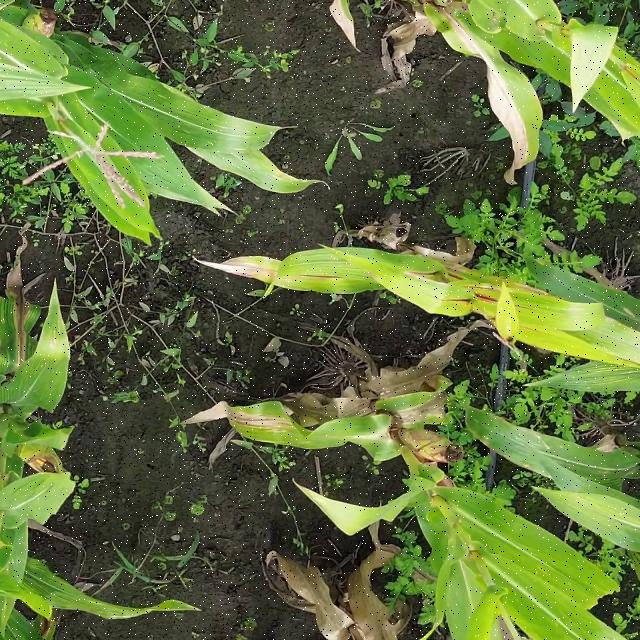gray-leaf-spot: (174, 110, 264, 150), (226, 150, 294, 190), (573, 361, 637, 388)
northern-leaf-blight: (444, 16, 533, 115), (240, 410, 383, 447), (4, 299, 44, 376), (236, 261, 322, 290), (382, 395, 452, 426)
southern-leaf-blight: (476, 419, 570, 466), (44, 321, 72, 384)
